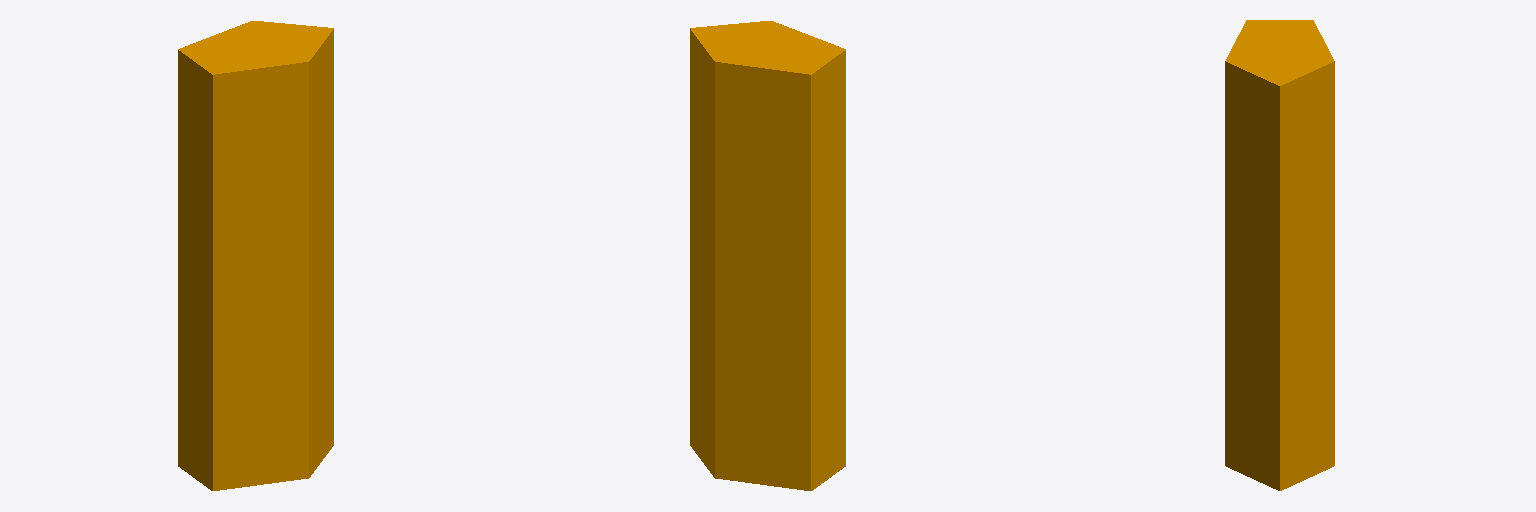
URDF robot description (pentagon):
<?xml version="1.0" ?>
<robot name="pentagon">

    <link name="pentagon">
        <visual>
            <origin rpy="1.5707963267948966 0 -1.5707963267948966" xyz="-0.00 0 -0.0"/>
            <geometry>
                <mesh filename="Shapes/pentagon.obj" scale="0.05443 .1 0.08165"/>
            </geometry>
        </visual>
        <collision>
            <origin rpy="1.5707963267948966 0 -1.5707963267948966" xyz="-0.00 0 -0.0"/>
            <geometry>
                <mesh filename="Shapes/pentagon.obj" scale="0.05443 .1 0.08165"/>
            </geometry>
        </collision>
        <inertial>
            <mass value="0.3"/>
            <inertia ixx="0.000029435425" ixy="0.0" ixz="0.0" iyy="0.000029435425" iyz="0.0" izz="0.00000725805"/>
        </inertial>
    </link>

</robot>

--- Facts derived from the render (not from the file) ---
3 views of the same robot in one strip: view 1: azimuth 30°, elevation 25°; view 2: azimuth 150°, elevation 25°; view 3: azimuth 270°, elevation 25° (orthographic).
Model pentagon with 1 links and 0 joints (none), rooted at pentagon, posed all joints at 0.
Visible links, largest first — view 1: pentagon; view 2: pentagon; view 3: pentagon.
Link boxes in pixels (left/top/right/bottom): pentagon: left=178, top=21, right=333, bottom=490; pentagon: left=690, top=21, right=845, bottom=490; pentagon: left=1225, top=20, right=1334, bottom=490.
Size in the robot's own frame: 0.0349 by 0.0245 by 0.1 metres.
Meshes: 1 distinct files referenced, 1 mesh visuals loaded (1 OBJ).
